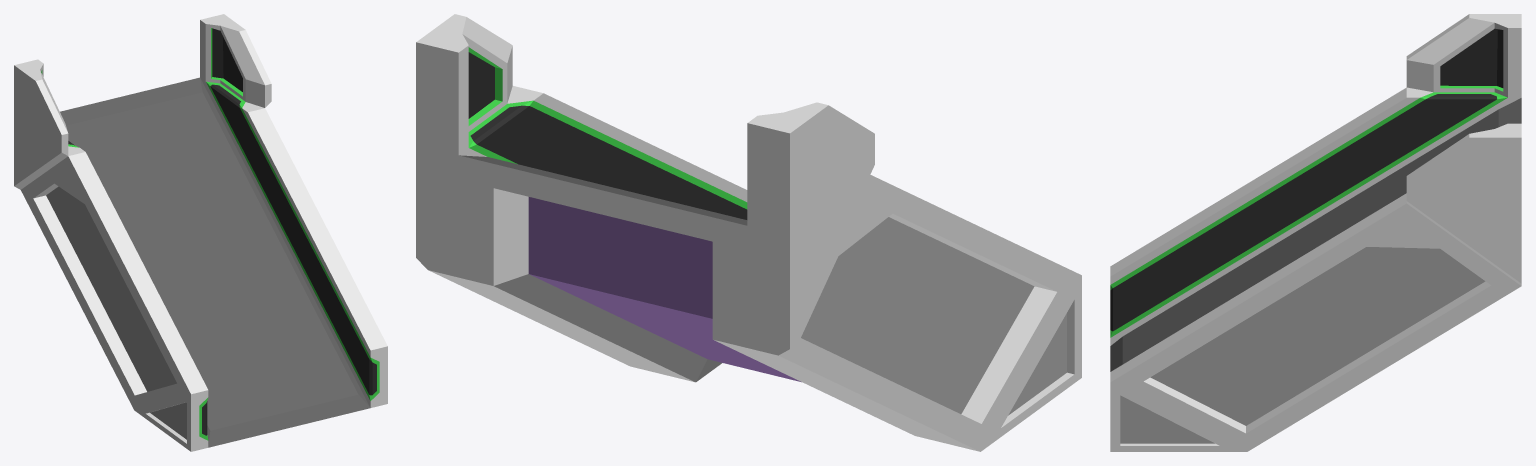
Rendered from SimpleStairs00.fbx.
3 views of the same model, side by side, from view 1: azimuth 30°, elevation 25°; view 2: azimuth 150°, elevation 25°; view 3: azimuth 270°, elevation 25° (orthographic). The views are drawn at different scales.
Visible parts, largest first — view 1: SimpleStairs00; view 2: SimpleStairs00; view 3: SimpleStairs00.
Part boxes in pixels (x1,y1,x2,y2): SimpleStairs00: (14,14,387,451); SimpleStairs00: (416,14,1081,451); SimpleStairs00: (1110,14,1521,451).
Bounding box in the file's own units: 160 × 192 × 225.
